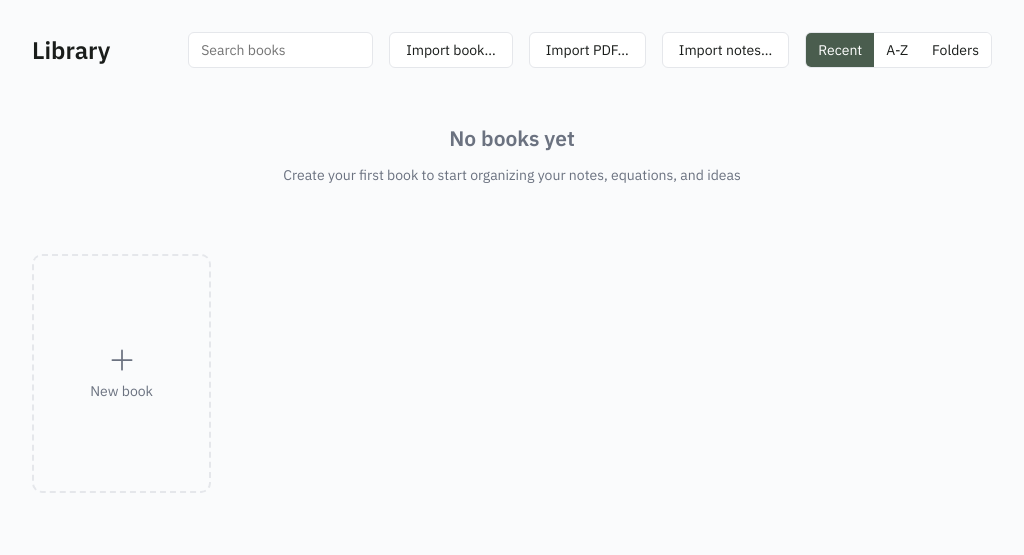
Library › shows empty folders and creates a new folder in Folders view
The width and height of the screenshot is (1024, 555).
Click the button "Folders".
click(956, 50)  # box [920,33,991,67]
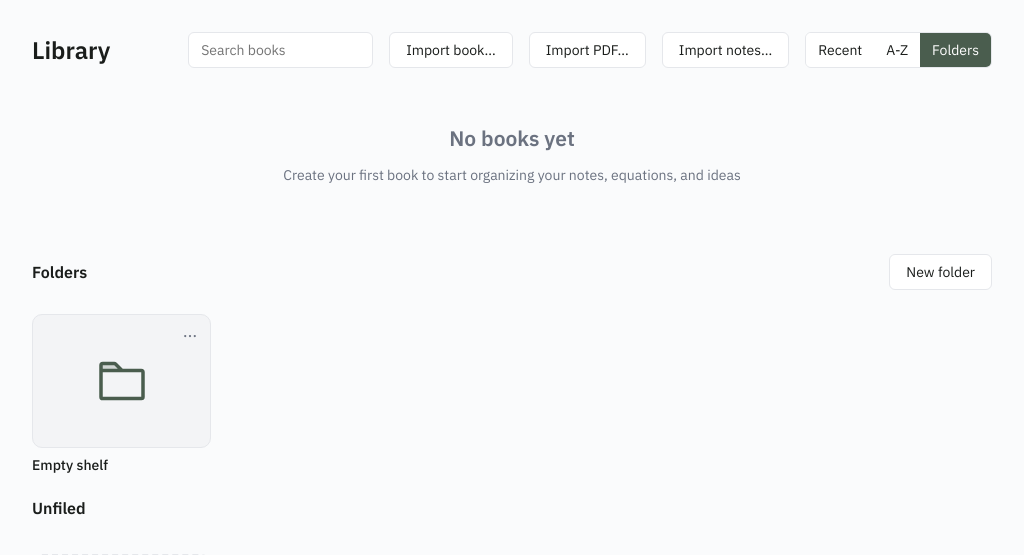
Now the text "Empty shelf" is shown, box [32,456,108,474]
Click the button "New folder".
click(941, 272)  # box [889,254,992,290]
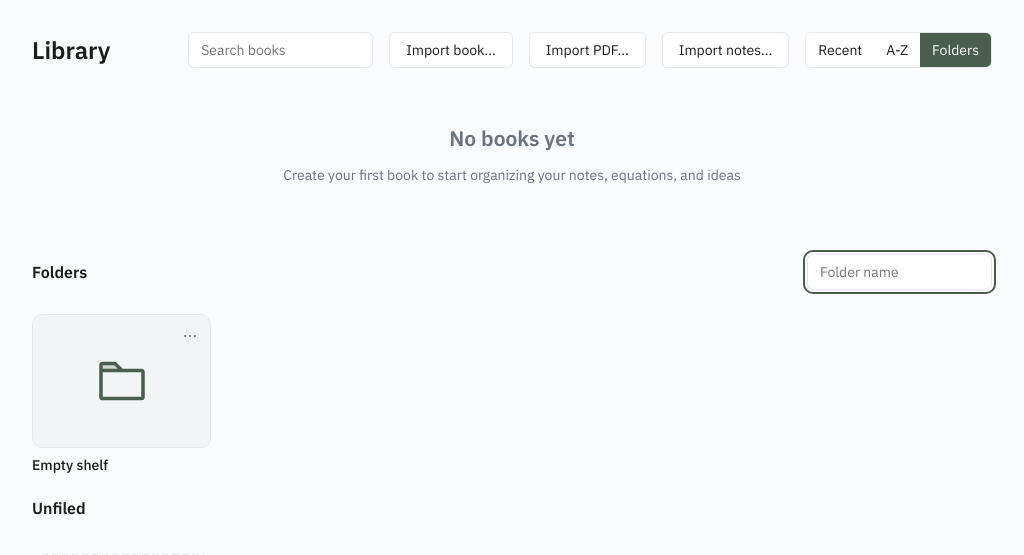
Type "Maths" into the field named "New folder name".
click(900, 272); type("Maths")  # box [807,254,992,290]
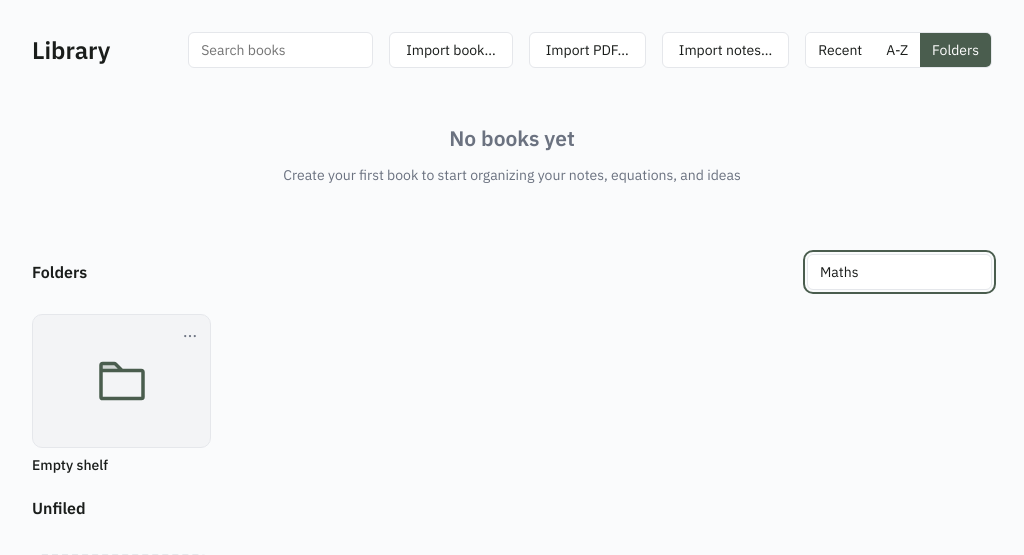
Press Enter in the field named "New folder name", box [807,254,992,290]
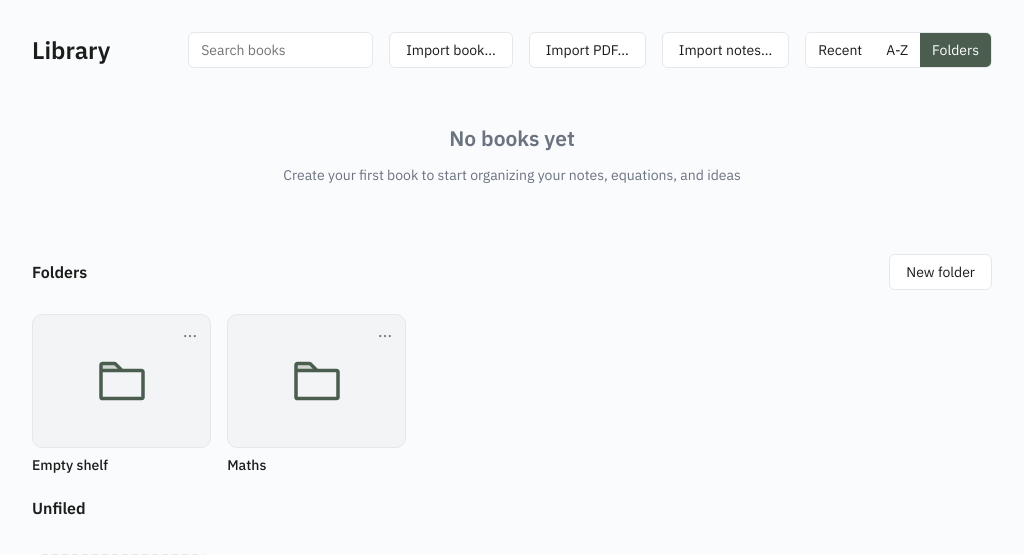
Now the text "Maths" is shown, box [227,456,266,474]
